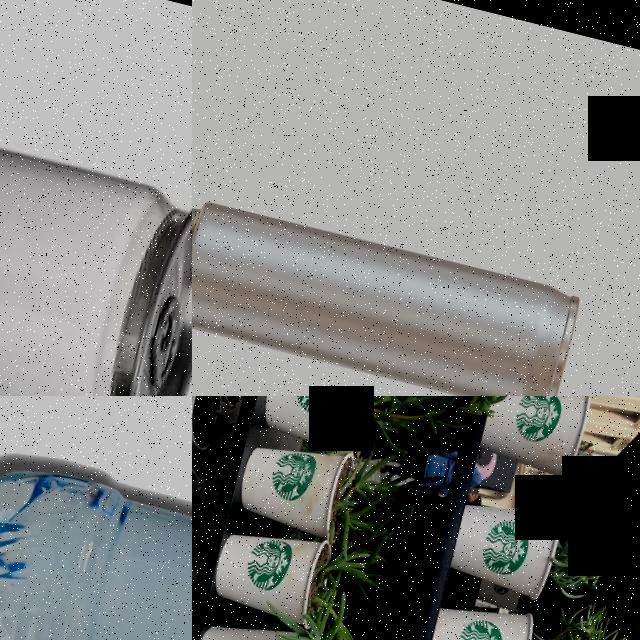bottle: (0, 452, 192, 640)
can: (192, 192, 585, 396), (0, 92, 192, 396)
cup: (230, 427, 359, 547), (206, 515, 336, 631), (446, 487, 564, 602), (474, 396, 593, 483), (255, 396, 378, 455), (420, 590, 538, 640), (192, 606, 314, 640)
